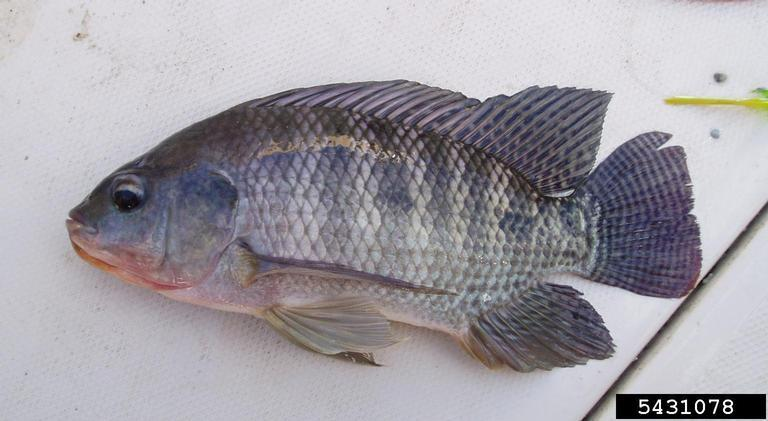Tilapia: (65, 70, 708, 371)
